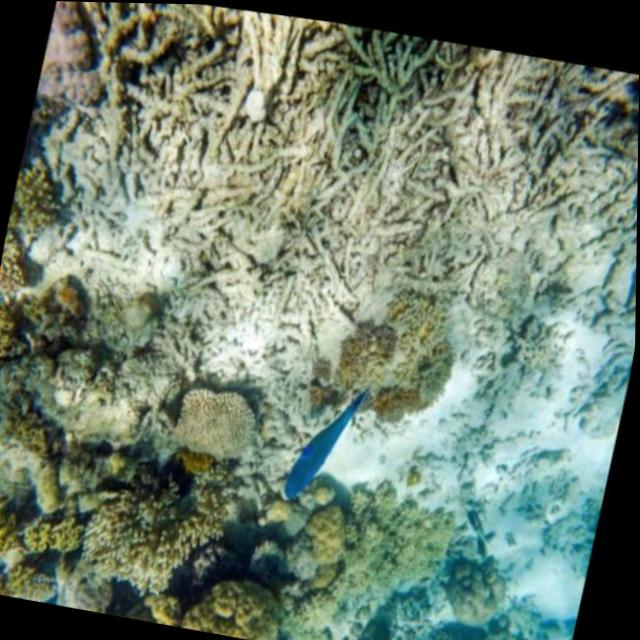Dead Coral: (32, 1, 640, 369)
